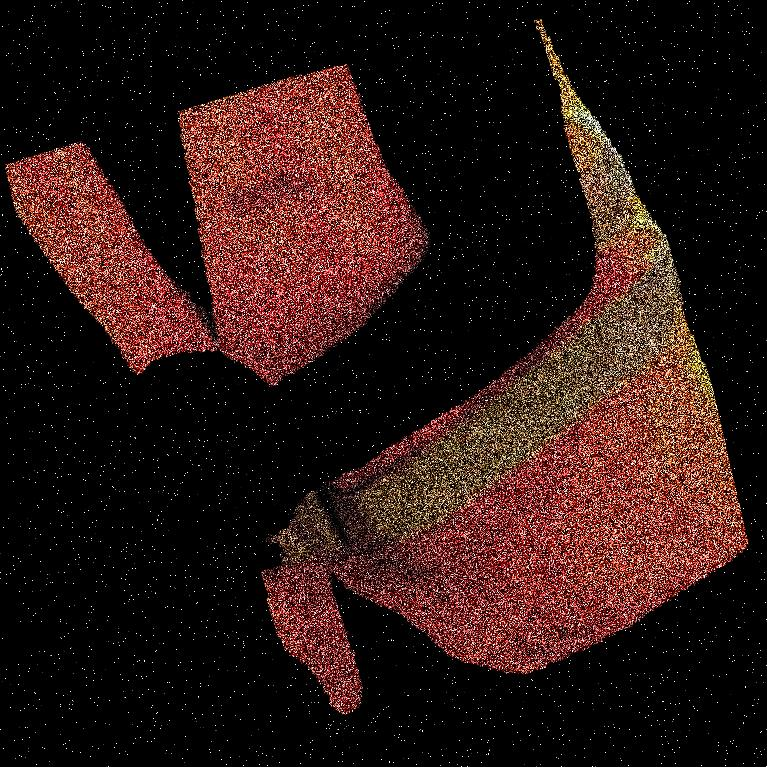Colete: (341, 0, 617, 766)
